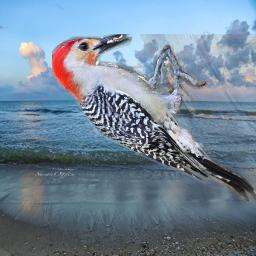Woodpecker: (52, 34, 256, 201)
